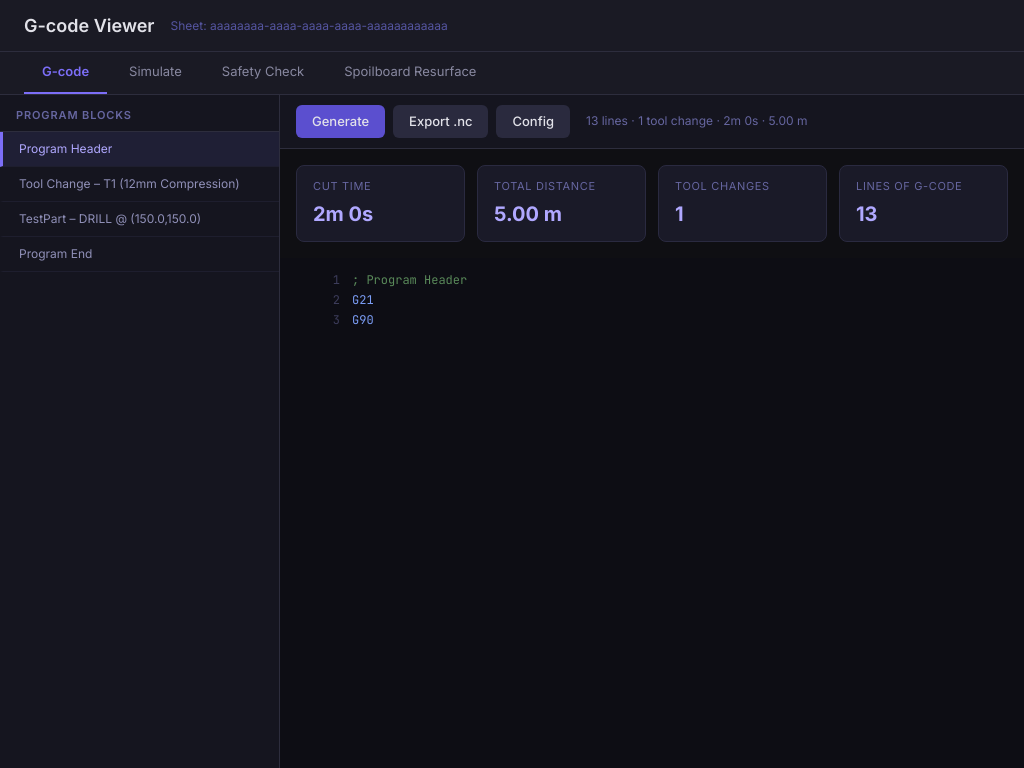
Test: Block navigation sidebar › clicking a block item updates the visible lines
This screenshot has width=1024, height=768.
Click the text "TestPart – DRILL @ (150.0,150.0)" at [140, 220], box [0,202,279,237]
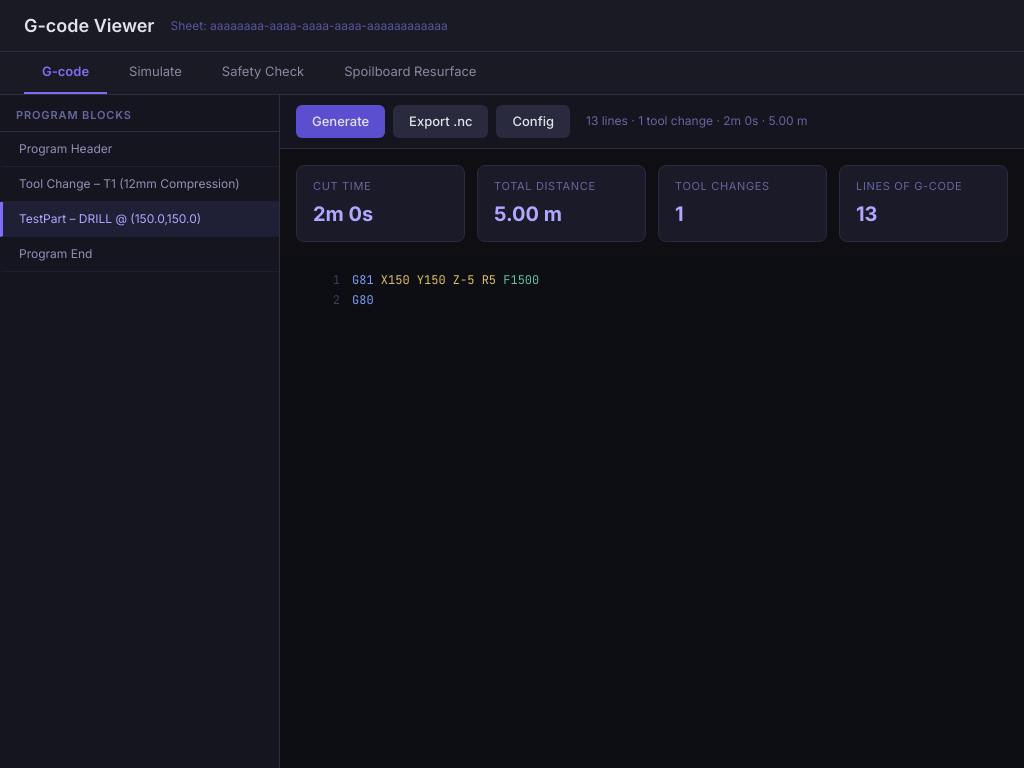
Expected: the text "G81" is shown, [352,272,374,288]
